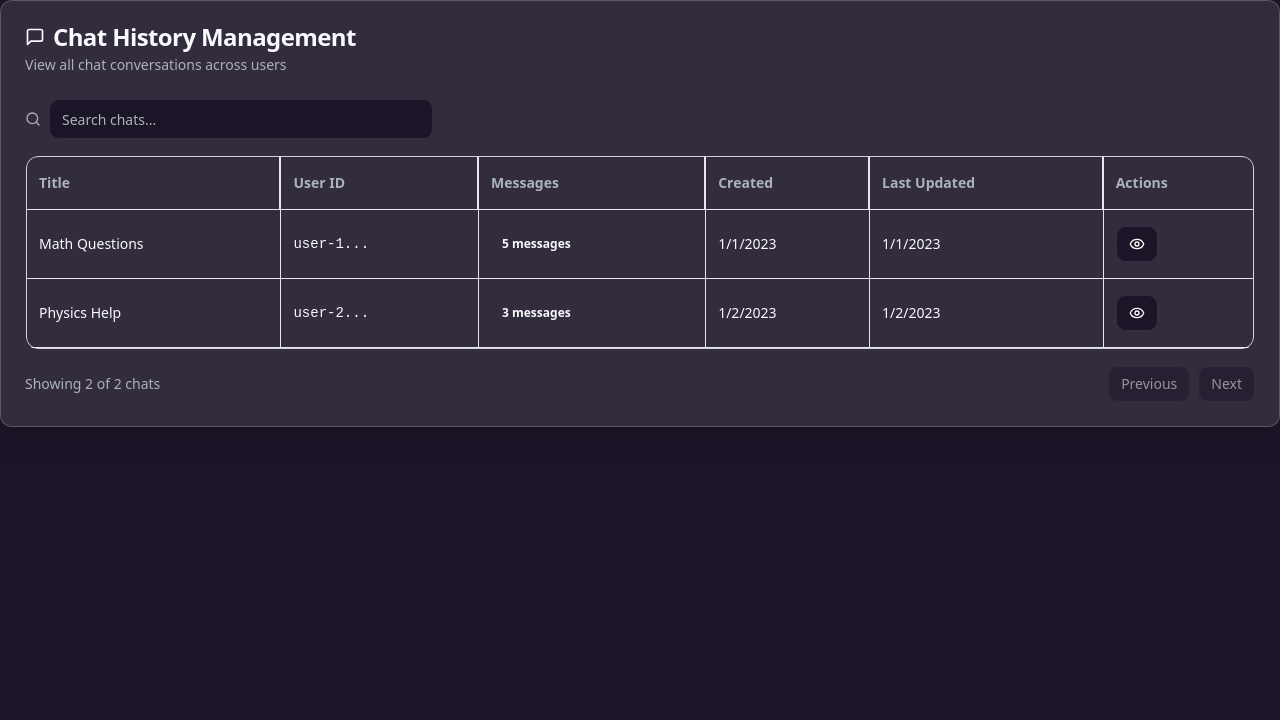
Test: AdminChatHistory › should close chat details dialog
This screenshot has width=1280, height=720.
Check: the text "Math Questions" is shown, box top-left (27, 210), bottom-right (281, 279)
Click the button without text in the row of "Math Questions".
click(1137, 244)  # box top-left (1116, 226), bottom-right (1158, 262)
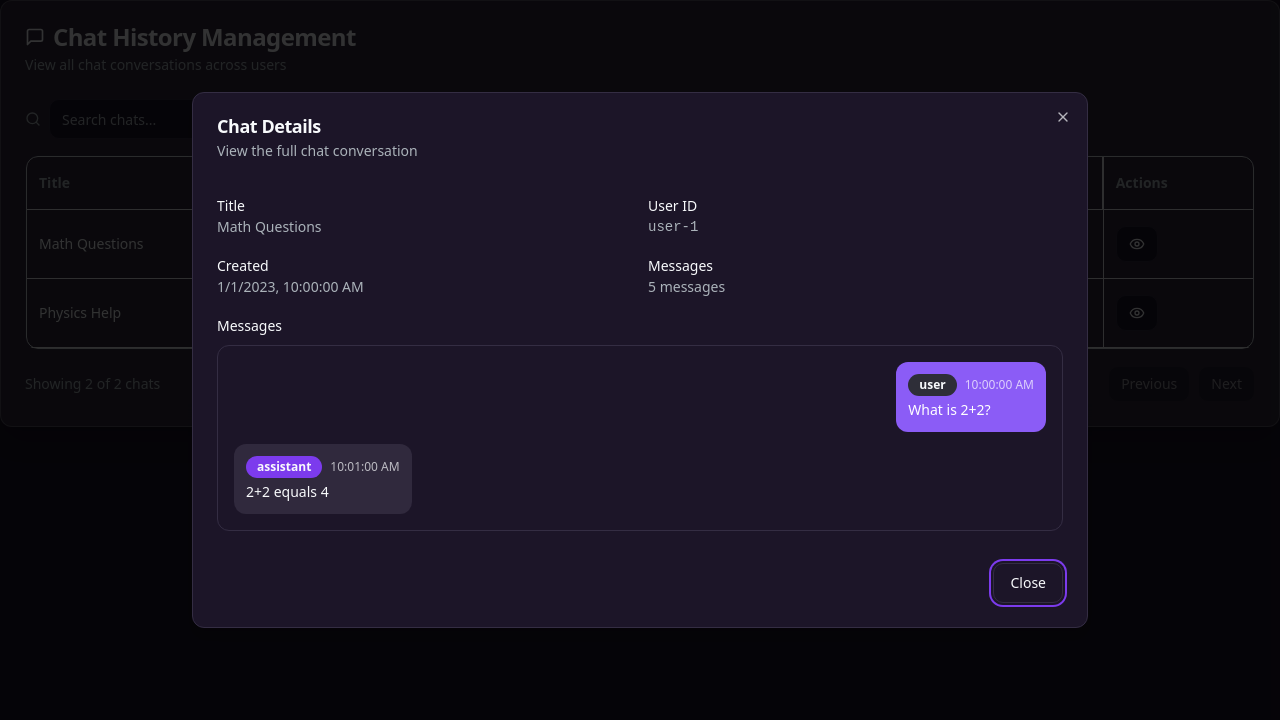
Check: the text "What is 2+2?" is shown, box top-left (908, 400), bottom-right (991, 419)
Click the button "Close".
click(1028, 583)  # box top-left (994, 563), bottom-right (1063, 603)
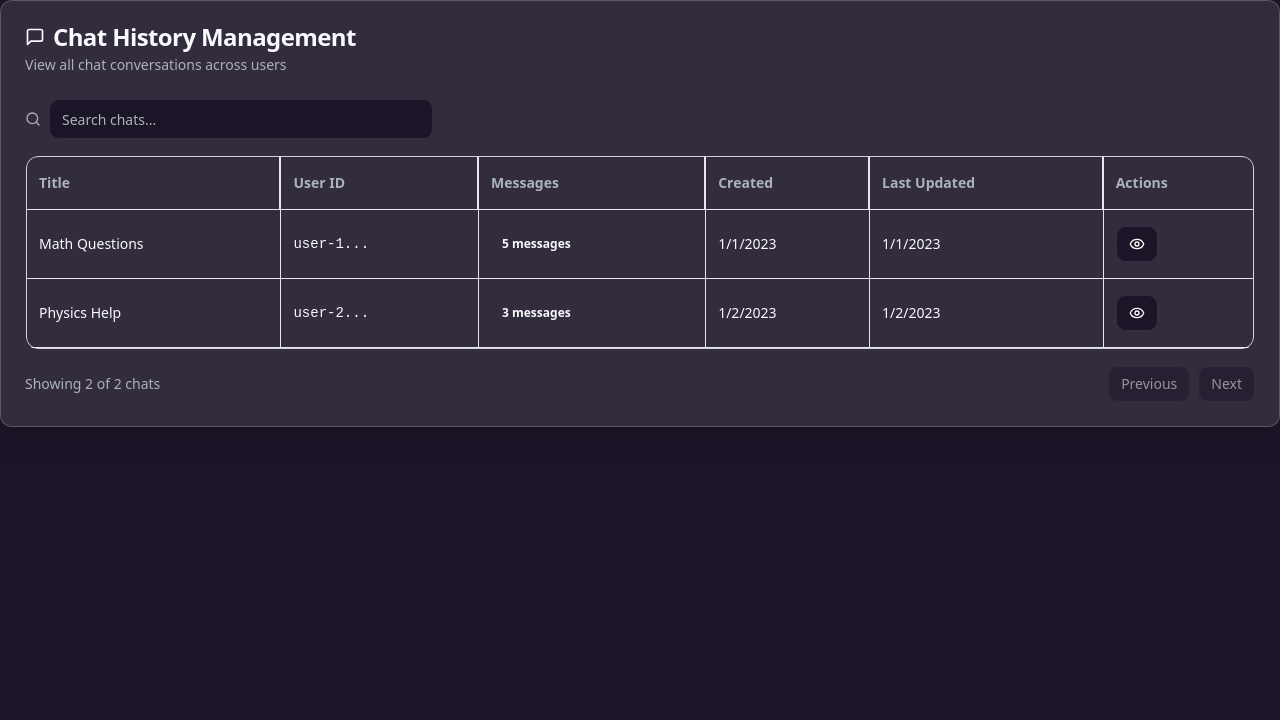
Check: the text "What is 2+2?" is gone
